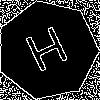H: (22, 25, 75, 81)
